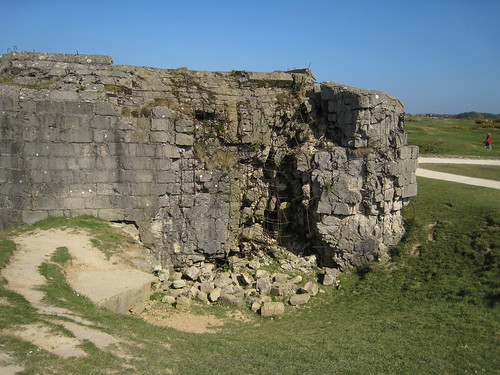grass: (35, 236, 500, 375), (421, 188, 500, 299)
rocks: (1, 51, 411, 294)
sky: (1, 1, 491, 106)
